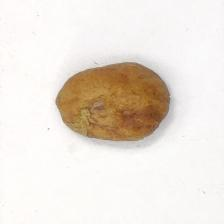NG: (56, 93, 99, 139)
